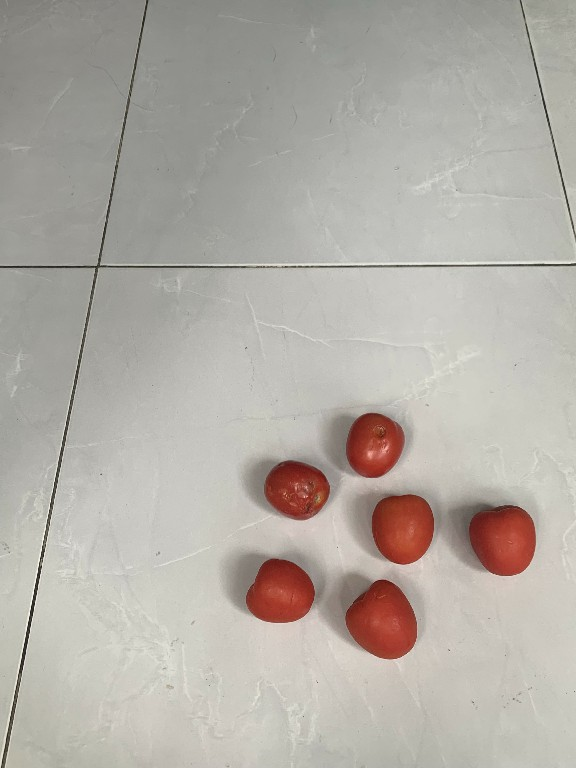NG: (258, 450, 333, 520), (340, 406, 405, 477)
OK: (339, 576, 424, 660), (241, 548, 317, 625), (470, 497, 539, 579), (367, 487, 435, 568)
